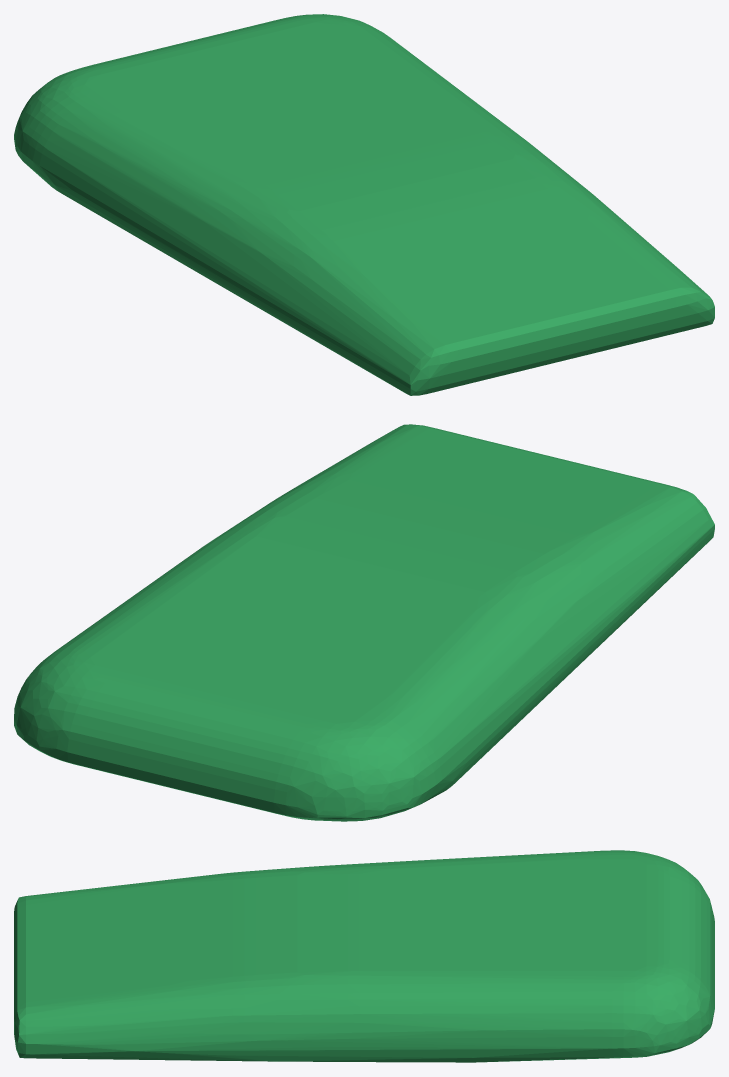
Rendered from left_knee_link_part_10.obj.
3 renders of one model, top to bottom at view 1: azimuth 30°, elevation 25°; view 2: azimuth 150°, elevation 25°; view 3: azimuth 270°, elevation 25°, orthographic. The views are drawn at different scales.
Bounding box in the file's own units: 0.0675 × 0.012 × 0.1174.
